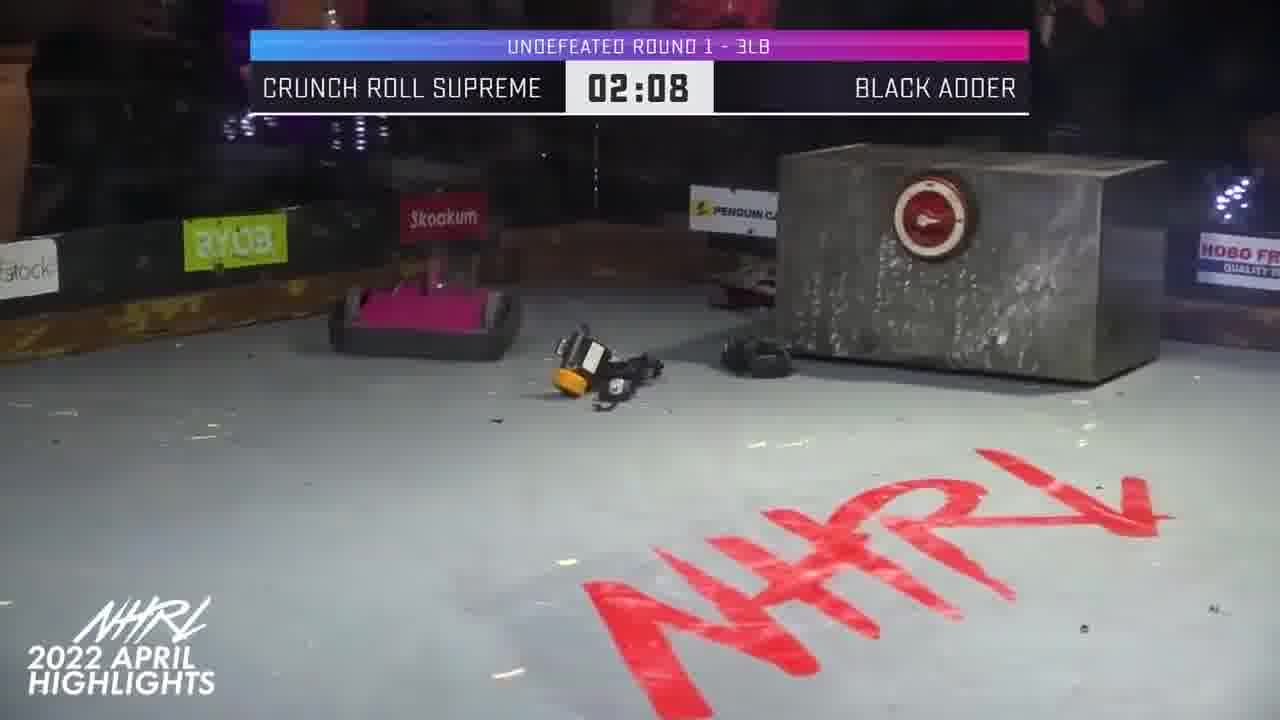combatbot: (328, 250, 519, 361), (549, 325, 668, 414), (717, 330, 798, 380)
housebot: (783, 146, 1169, 387)
